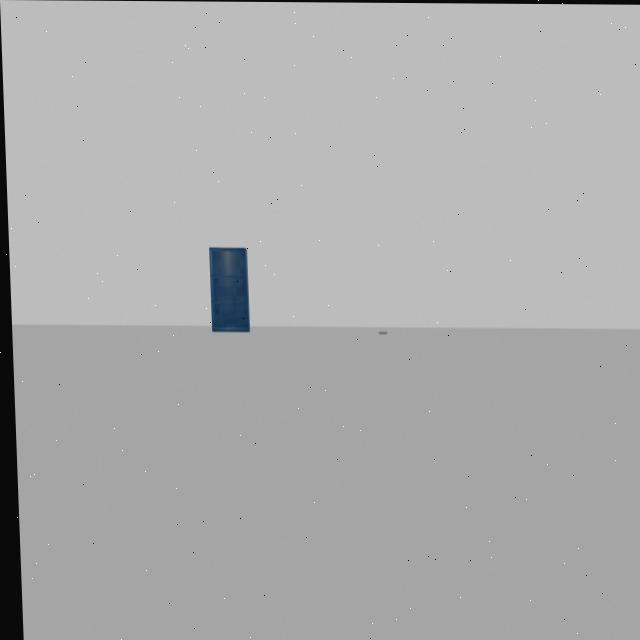bowl: (371, 324, 389, 344)
shelf: (201, 240, 253, 341)
